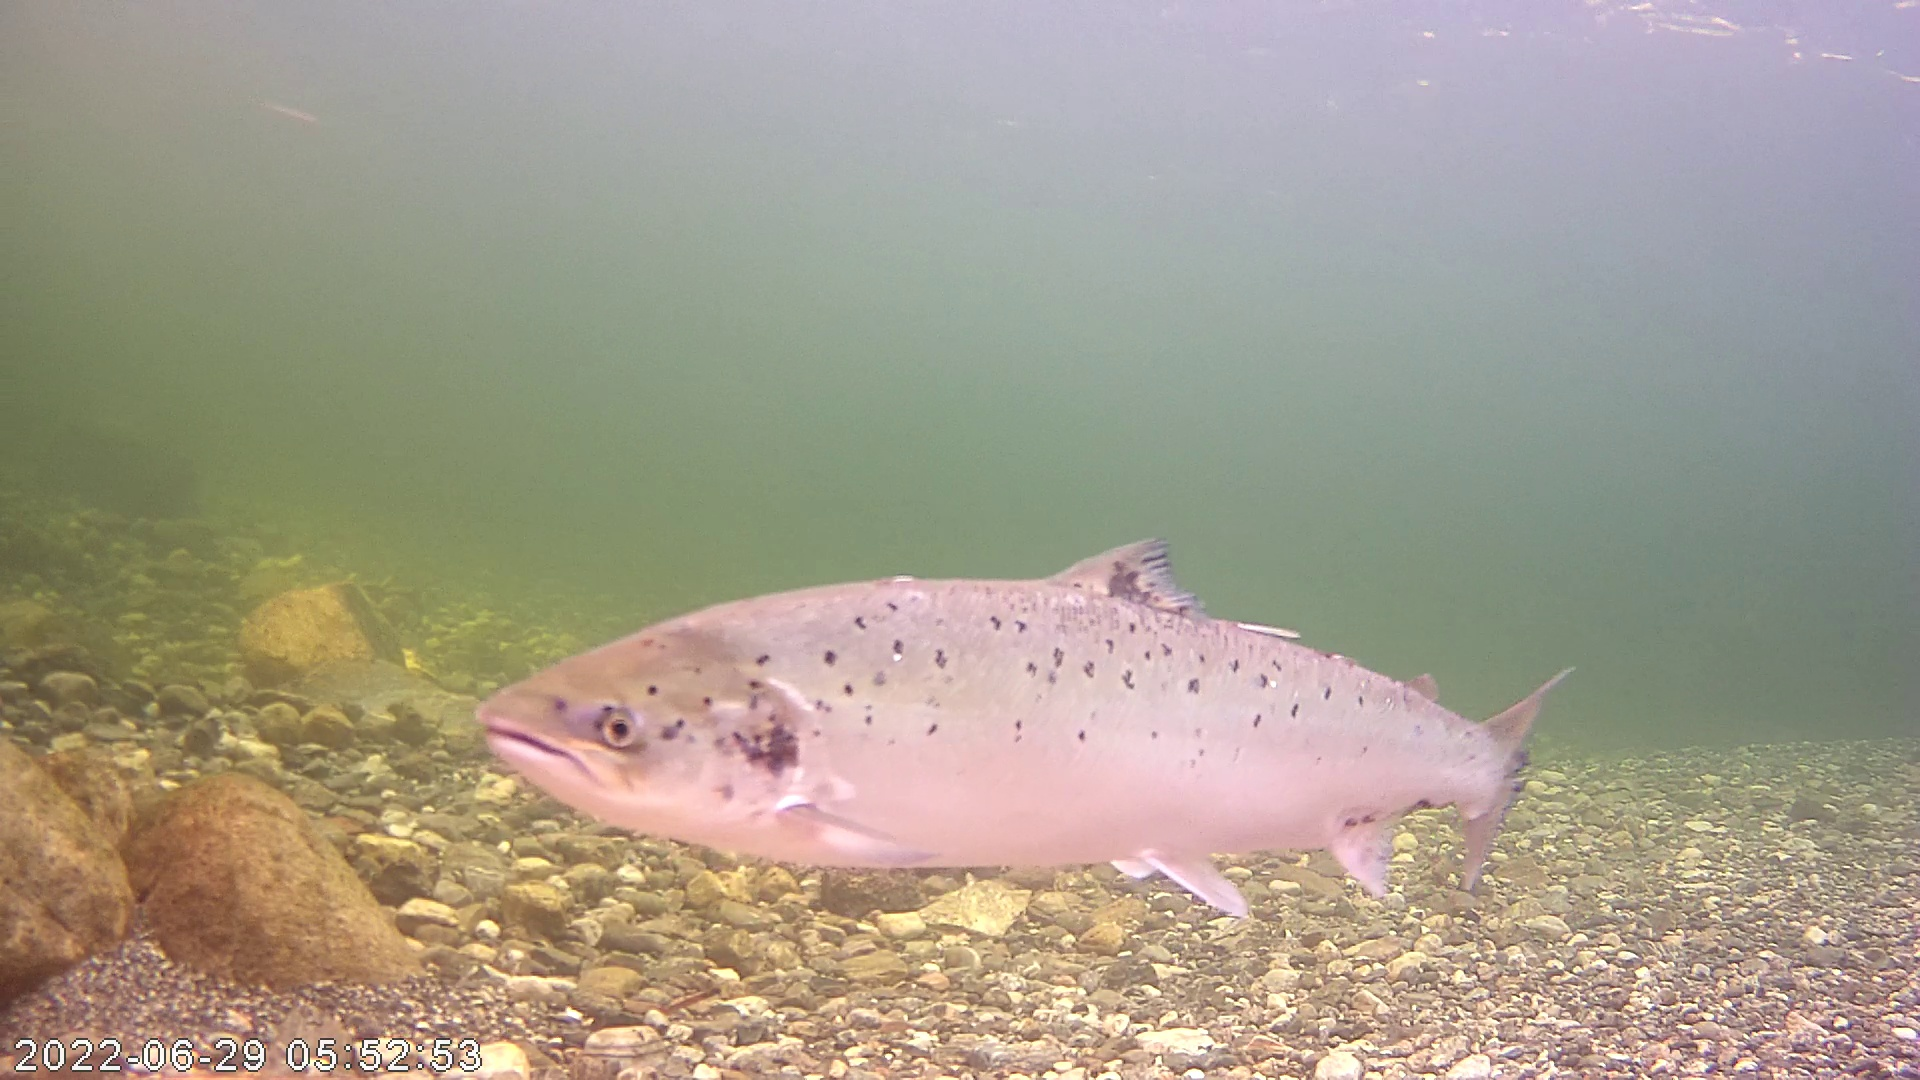salmon: (472, 434, 1542, 901)
